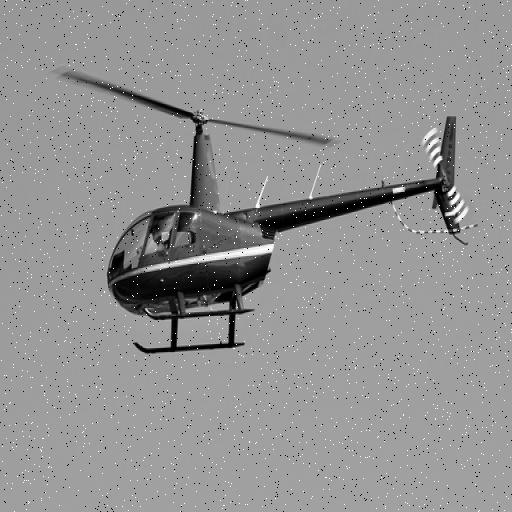helicopter: (51, 59, 475, 359)
